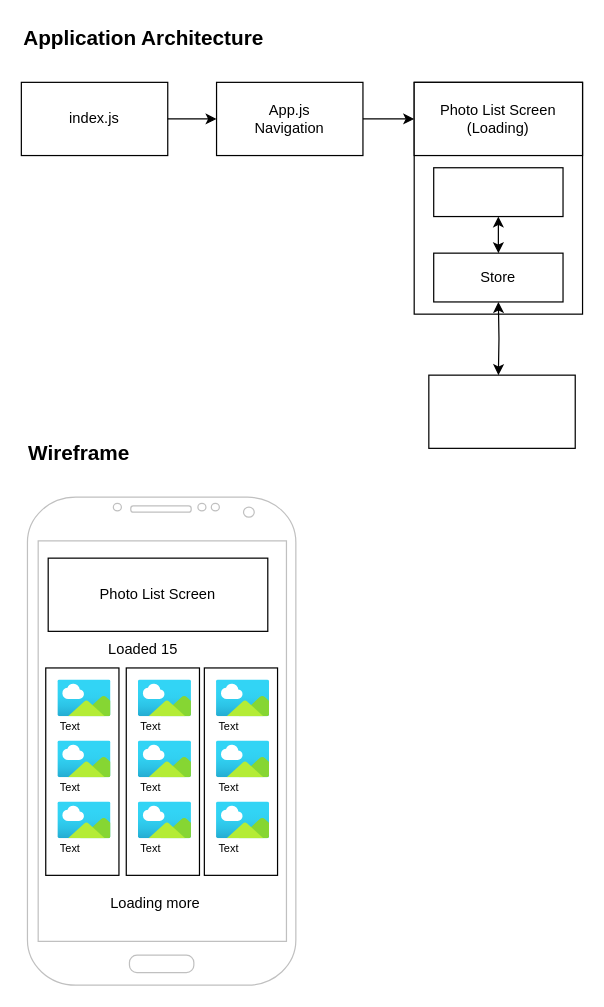
Some shapes in this 604 by 1007 pixel diagram are drawn without their labels. The box of each missing label's shape, as (x1, y1, x2, y2) in pixels:
API: (428, 374, 575, 448)
Components: (432, 167, 563, 217)
